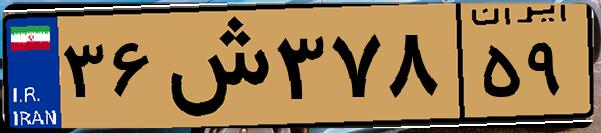3: (270, 28, 330, 110), (57, 26, 110, 100)
5: (475, 38, 525, 113)
6: (110, 28, 158, 98)
7: (330, 28, 385, 110)
8: (385, 28, 445, 110)
9: (525, 38, 570, 115)
ش: (158, 12, 270, 120)
